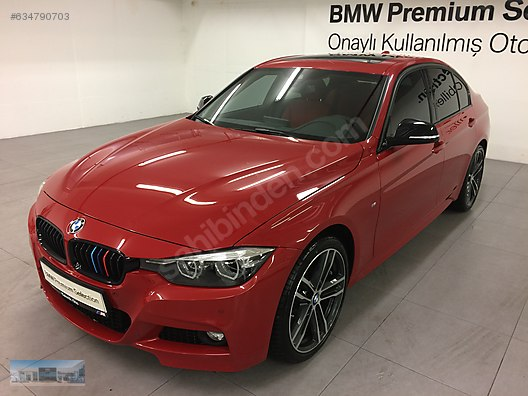bmw: (27, 51, 494, 373)
